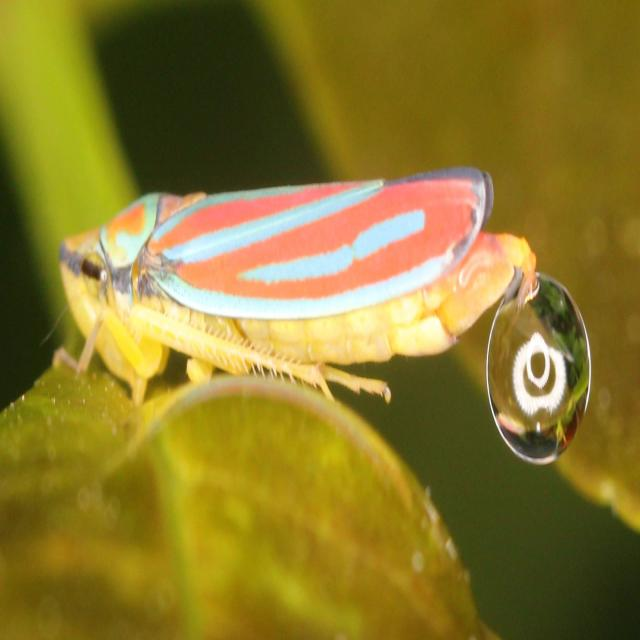Yechan: (38, 154, 544, 418)
